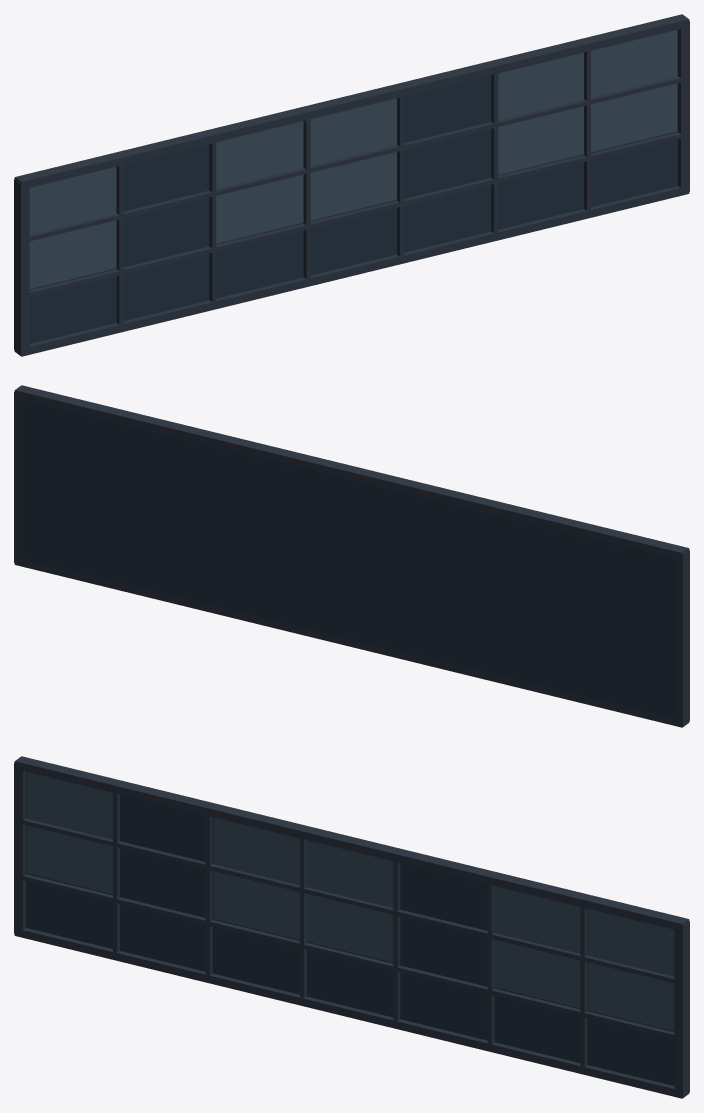
The model's file is front_window.glb.
The picture shows the model from 3 angles, top to bottom: view 1: azimuth 30°, elevation 25°; view 2: azimuth 150°, elevation 25°; view 3: azimuth 330°, elevation 25°; orthographic projection.
Visible parts, largest first — view 1: front_window_Glass, front_window_GlassHighlight, front_window_Steel; view 2: front_window_Glass, front_window_Steel; view 3: front_window_Glass, front_window_GlassHighlight, front_window_Steel.
Part boxes in pixels (x1,y1,x2,y2): front_window_Glass: (29,30,677,343); front_window_GlassHighlight: (29,30,677,288); front_window_Steel: (14,14,689,356); front_window_Glass: (22,400,674,717); front_window_Steel: (14,385,689,727); front_window_Glass: (26,772,674,1085); front_window_GlassHighlight: (26,772,674,1030); front_window_Steel: (14,756,689,1098).
Bounding box in the file's own units: 9.02 × 2.25 × 0.16.
